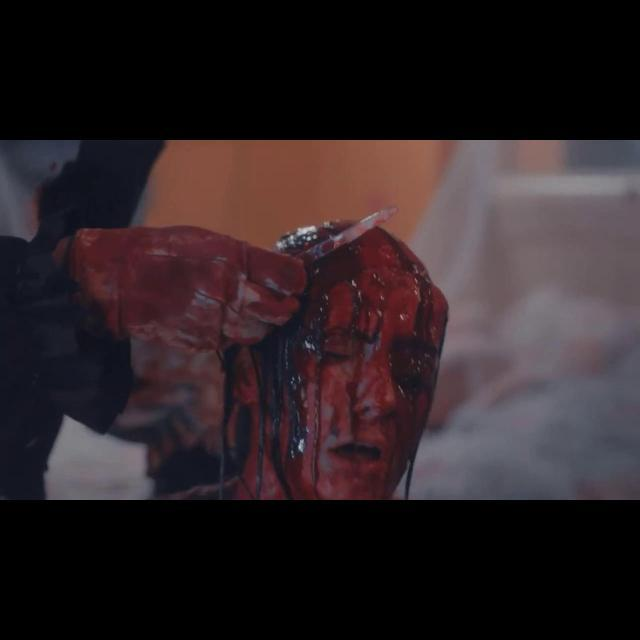blood: (55, 218, 448, 500)
